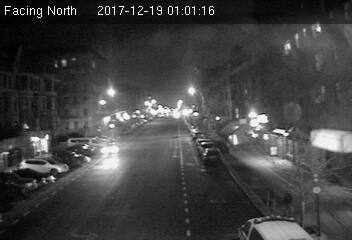car: (99, 141, 121, 154)
police: (235, 215, 309, 240)
